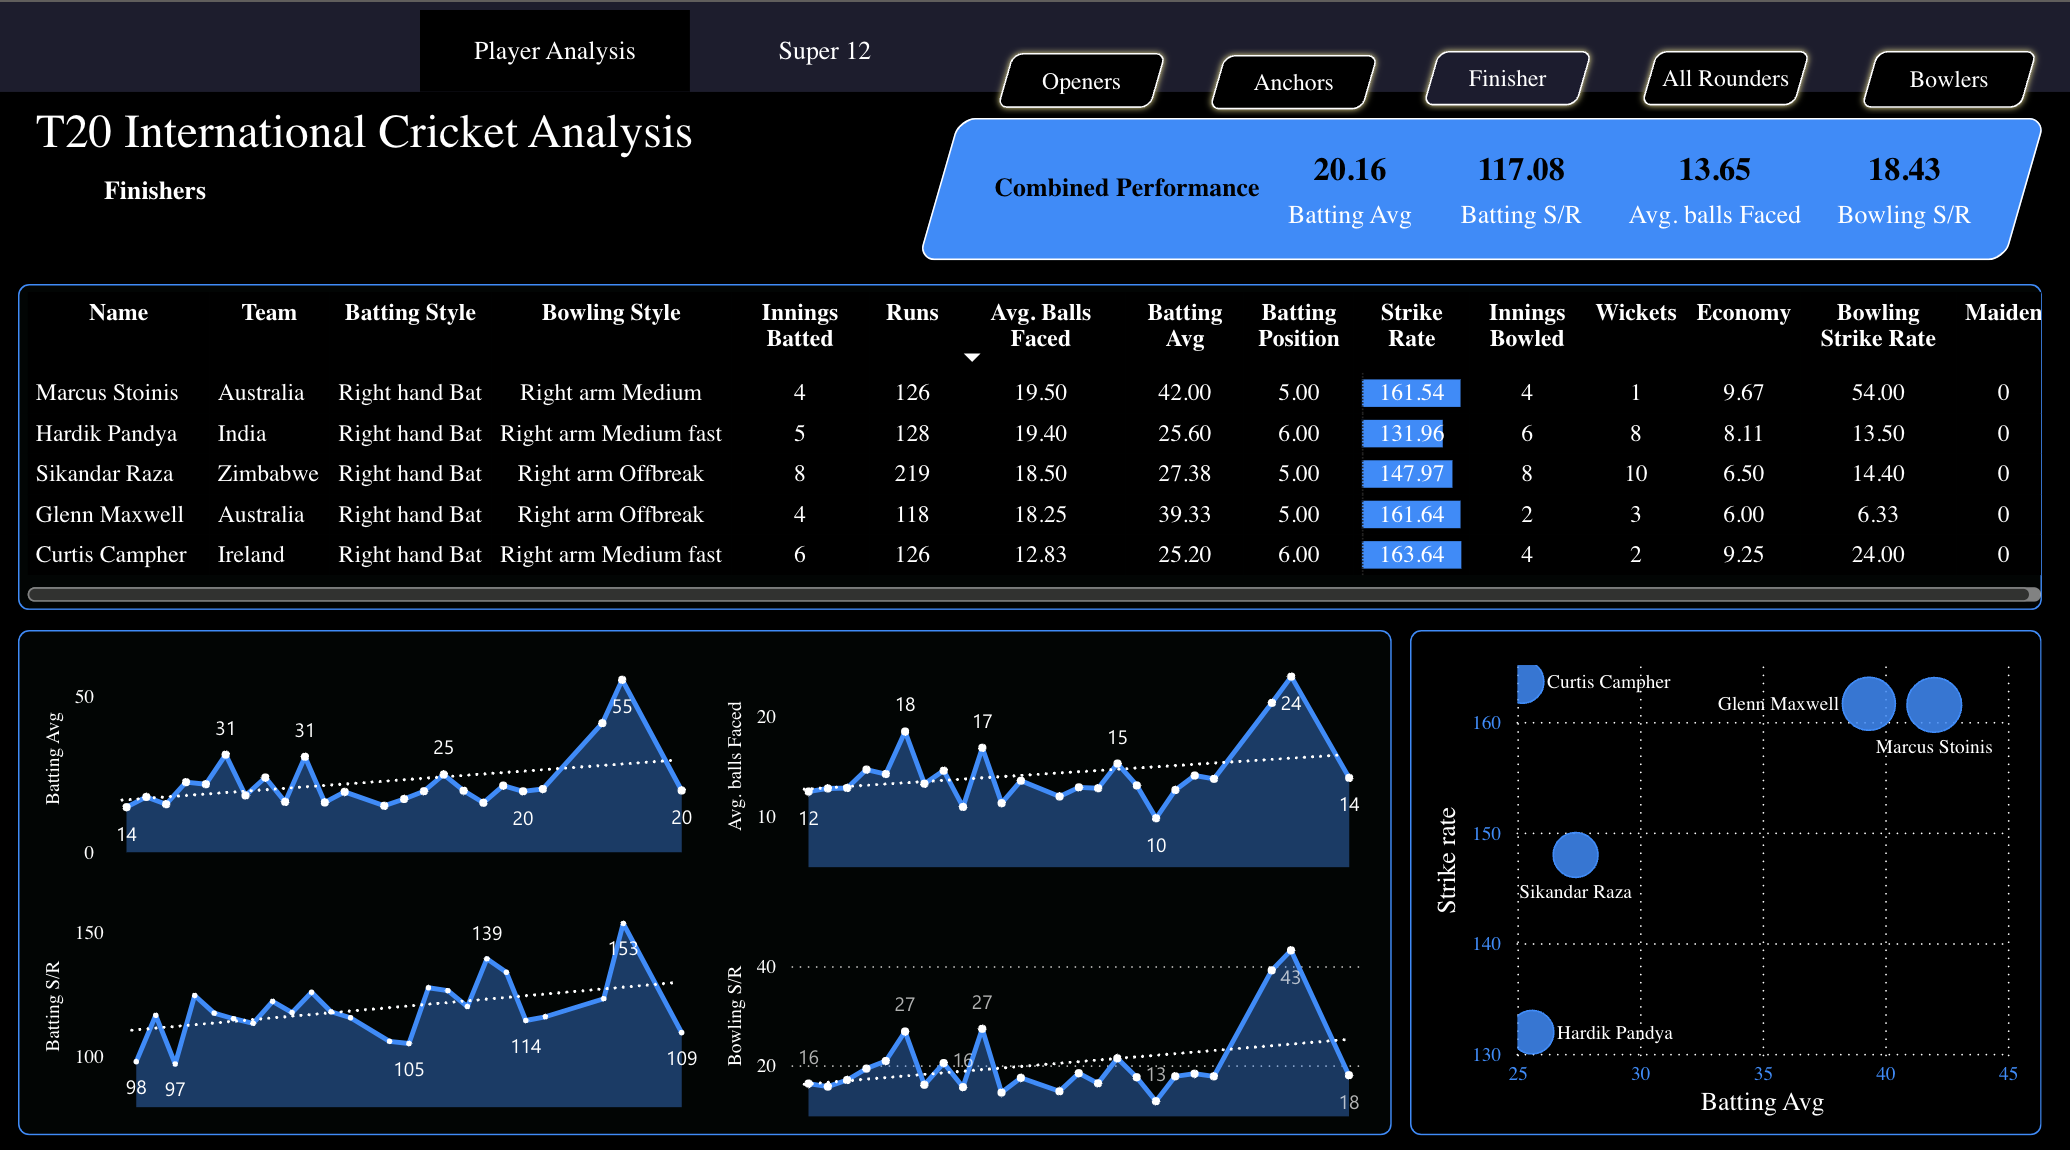

The page's visual inventory and layout, read from the dashboard file:
{"tool":"powerbi","page":{"name":"Finishers","canvas":[1280,720],"ordinal":2},"visuals":[{"type":"shape","box":[0,0,1280,65.6],"z":0},{"type":"shape","box":[11.4,184.7,1251.6,201.7],"z":1000},{"type":"shape","box":[64.4,101.9,254.8,50.7],"z":2000},{"type":"shape","box":[567.7,81.1,697.4,87.9],"z":3000},{"type":"shape","box":[606.4,109.4,181.8,31.3],"z":4000},{"type":"shape","box":[608,33.5,120.7,50],"z":5000},{"type":"shape","box":[740.2,34.1,120.8,49.7],"z":6000},{"type":"shape","box":[872.3,32.7,120.8,49.7],"z":7000},{"type":"shape","box":[1007.2,32.7,120.8,49.7],"z":8000},{"type":"shape","box":[1142.2,32.7,125,51.1],"z":9000},{"type":"shape","box":[11.4,397.8,849.5,312.5],"z":10000},{"type":"tableEx","fields":{"Values":["dim_players.name","dim_players.team","dim_players.battingStyle","dim_players.bowlingStyle","Key_Measures.Total Innings Batted","Key_Measures.Total Runs","Key_Measures.Avg. balls Faced","Key_Measures.Batting Avg","Key_Measures.Batting Position","Key_Measures.Strike rate","Key_Measures.Total Innings Bowled","Key_Measures.wickets"]},"box":[11.4,184.7,1255.8,201.7],"z":11000},{"type":"areaChart","fields":{"Category":["dim_match_summary.matchDate.Variation.Date Hierarchy.Year","dim_match_summary.matchDate.Variation.Date Hierarchy.Month","dim_match_summary.matchDate.Variation.Date Hierarchy.Day"],"Y":["Key_Measures.Batting Avg"]},"box":[22.4,405.3,414.2,143.1],"z":12000},{"type":"areaChart","fields":{"Y":["Key_Measures.Avg. balls Faced"],"Category":["dim_match_summary.matchDate.Variation.Date Hierarchy.Year","dim_match_summary.matchDate.Variation.Date Hierarchy.Month","dim_match_summary.matchDate.Variation.Date Hierarchy.Day"]},"box":[444.1,406.8,405.3,143.1],"z":13000},{"type":"areaChart","fields":{"Y":["Key_Measures.Strike rate"],"Category":["dim_match_summary.matchDate.Variation.Date Hierarchy.Year","dim_match_summary.matchDate.Variation.Date Hierarchy.Quarter","dim_match_summary.matchDate.Variation.Date Hierarchy.Month","dim_match_summary.matchDate.Variation.Date Hierarchy.Day"]},"box":[22.4,555.8,414.2,143.1],"z":14000},{"type":"areaChart","fields":{"Category":["dim_match_summary.matchDate.Variation.Date Hierarchy.Year","dim_match_summary.matchDate.Variation.Date Hierarchy.Month","dim_match_summary.matchDate.Variation.Date Hierarchy.Day"],"Y":["Key_Measures.Bowling Strike Rate"]},"box":[444.1,561,405.1,142.6],"z":15000},{"type":"scatterChart","fields":{"Category":["dim_players.name"],"X":["Key_Measures.Batting Avg"],"Y":["Key_Measures.Strike rate"],"Size":["Key_Measures.Batting Avg"]},"box":[882.2,406.3,370.8,296.9],"z":16000},{"type":"card","title":"Consolidated Parameters","fields":{"Values":["Key_Measures.Batting Avg"]},"box":[788.2,83.8,93.9,78],"z":17000},{"type":"card","title":"Consolidated Parameters","fields":{"Values":["Key_Measures.Strike rate"]},"box":[874.6,83.8,132.6,78],"z":18000},{"type":"card","title":"Consolidated Parameters","fields":{"Values":["Key_Measures.Avg. balls Faced"]},"box":[995.3,83.8,129.6,78],"z":19000},{"type":"card","title":"Consolidated Parameters","fields":{"Values":["Key_Measures.Bowling Strike Rate"]},"box":[1125,83.8,104.3,78],"z":20000},{"type":"shape","box":[872.3,397.8,390.7,312.5],"z":21000},{"type":"shape","title":"T20 International Cricket Analysis","box":[22.4,73,554.3,35.8],"z":22001},{"type":"shape","box":[259.3,14.9,166.9,50.7],"z":22002},{"type":"shape","box":[426.2,14.9,166.9,50.7],"z":22003}]}

Visuals, with their boxes in screenshot pixels (x1, y1, x2, y2), scaled from the page's 1280x720 canvas onto the 2070x1150 screenshot:
shape: [0, 0, 2069, 105]
shape: [18, 295, 2043, 617]
shape: [104, 163, 516, 244]
shape: [918, 130, 2046, 270]
shape: [981, 175, 1275, 225]
shape: [983, 54, 1178, 133]
shape: [1197, 54, 1392, 134]
shape: [1411, 52, 1606, 132]
shape: [1629, 52, 1824, 132]
shape: [1847, 52, 2049, 134]
shape: [18, 635, 1392, 1135]
tableEx - dim_players.name x dim_players.team: [18, 295, 2049, 617]
areaChart - dim_match_summary.matchDate.Variation.Date Hierarchy.Year x dim_match_summary.matchDate.Variation.Date Hierarchy.Month: [36, 647, 706, 876]
areaChart - Key_Measures.Avg. balls Faced x dim_match_summary.matchDate.Variation.Date Hierarchy.Year: [718, 650, 1374, 878]
areaChart - Key_Measures.Strike rate x dim_match_summary.matchDate.Variation.Date Hierarchy.Year: [36, 888, 706, 1116]
areaChart - dim_match_summary.matchDate.Variation.Date Hierarchy.Year x dim_match_summary.matchDate.Variation.Date Hierarchy.Month: [718, 896, 1373, 1124]
scatterChart - dim_players.name x Key_Measures.Batting Avg: [1427, 649, 2026, 1123]
"Consolidated Parameters" card: [1275, 134, 1427, 258]
"Consolidated Parameters" card: [1414, 134, 1629, 258]
"Consolidated Parameters" card: [1610, 134, 1819, 258]
"Consolidated Parameters" card: [1819, 134, 1988, 258]
shape: [1411, 635, 2043, 1135]
"T20 International Cricket Analysis" shape: [36, 117, 933, 174]
shape: [419, 24, 689, 105]
shape: [689, 24, 959, 105]
